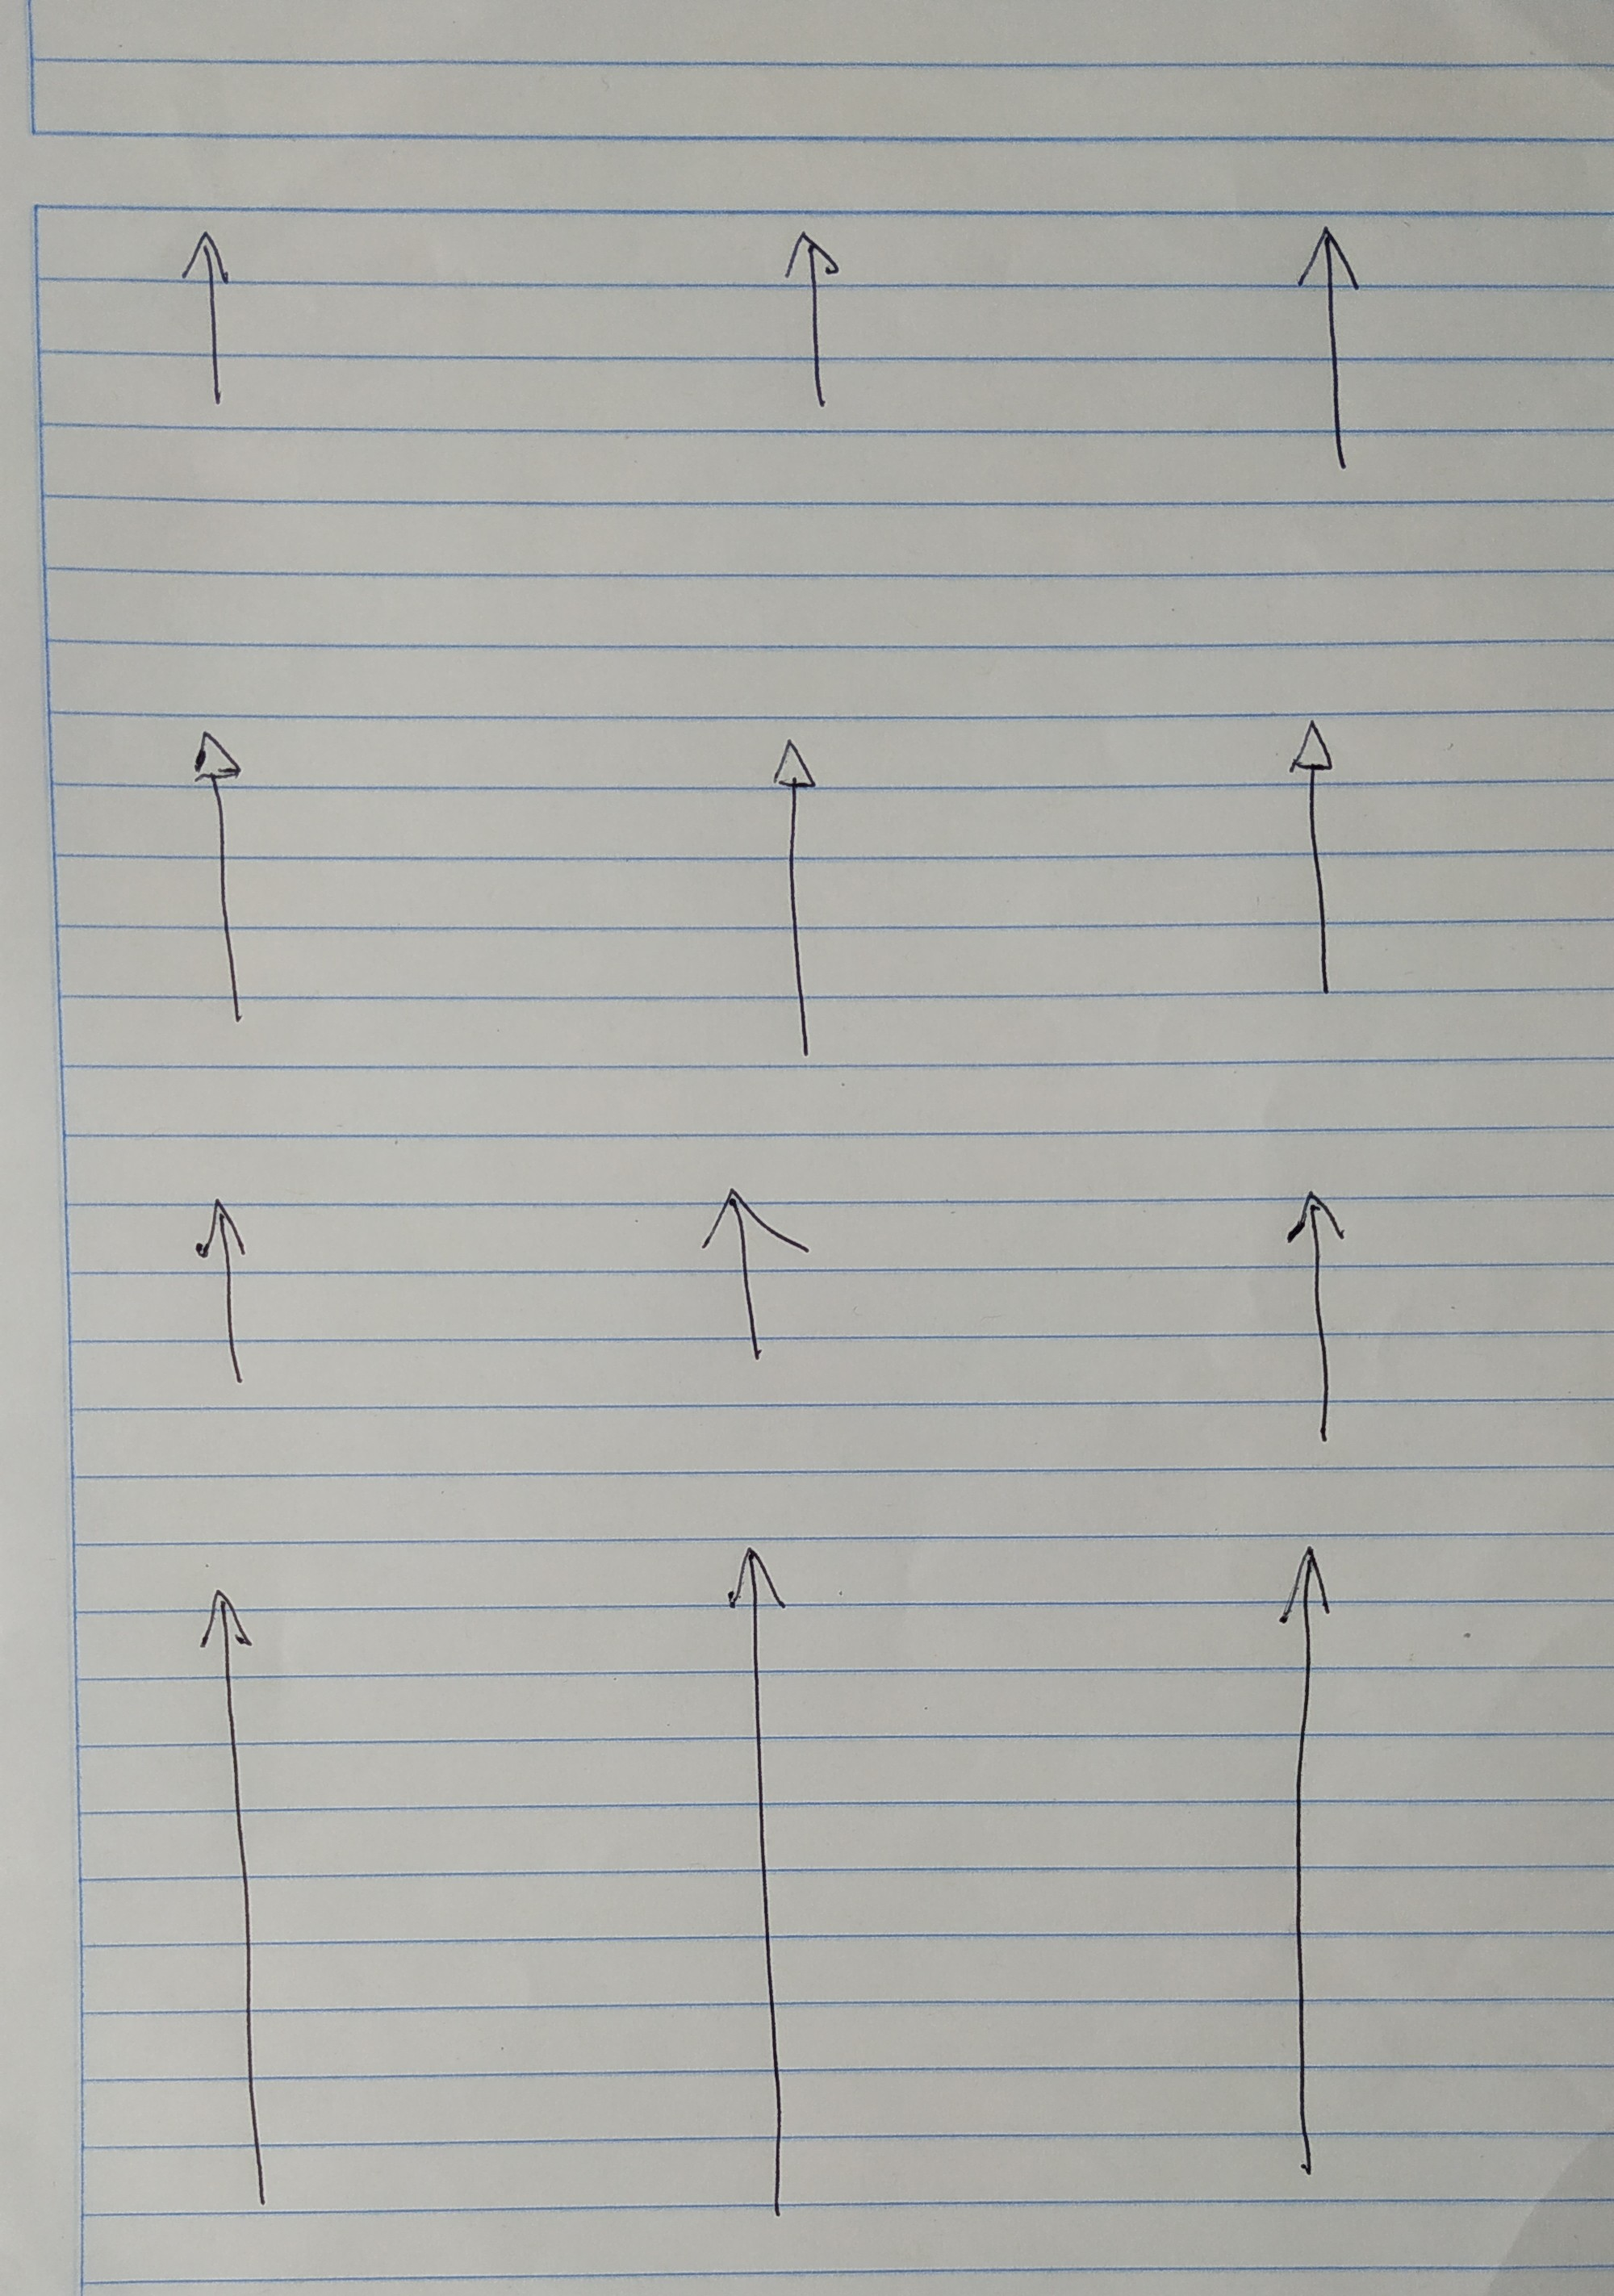arrow_line_up: (196, 1591, 281, 2212), (727, 1545, 800, 2219), (1275, 1545, 1336, 2189), (189, 730, 255, 1028), (702, 1189, 809, 1367), (767, 737, 824, 1065), (1279, 1184, 1350, 1442), (1293, 225, 1364, 478), (1289, 719, 1343, 1000), (784, 230, 842, 421), (196, 1198, 253, 1388), (178, 229, 236, 414)
